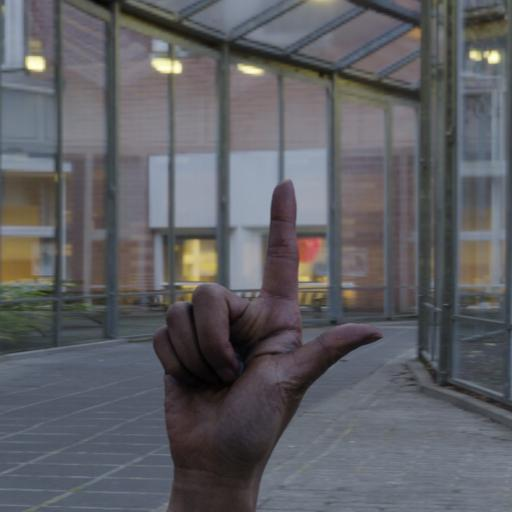L: (130, 172, 390, 490)
